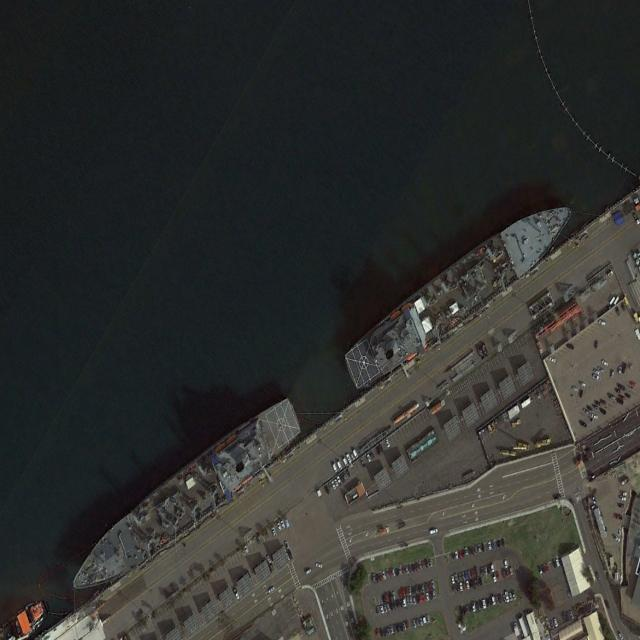Commander: (63, 388, 303, 608), (338, 180, 578, 397)
